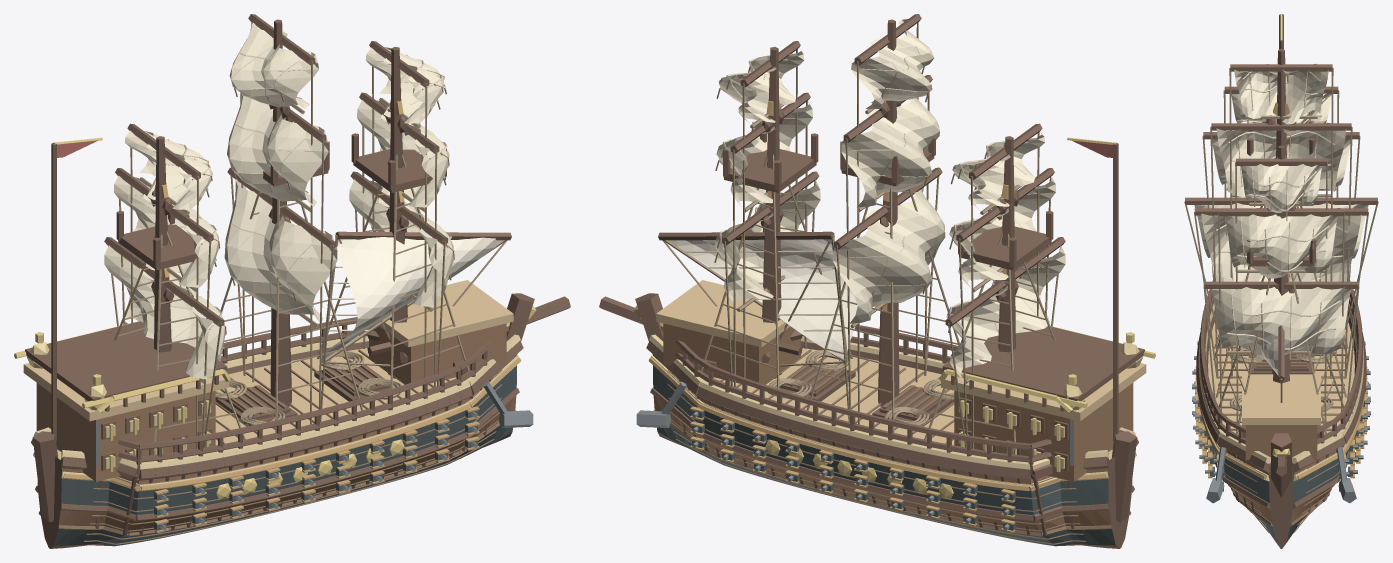
File: ship_of_line-v5-mobile.glb
3 renders of one model, left to right at view 1: azimuth 30°, elevation 25°; view 2: azimuth 150°, elevation 25°; view 3: azimuth 270°, elevation 25°, orthographic. The views are drawn at different scales.
Parts seen in each view (by area): view 1: ship_of_line_sails_sail, ship_of_line_hull_darkwood, ship_of_line_masts_darkwood, ship_of_line_deck_hull, ship_of_line_hull_black, ship_of_line_deck_darkwood, ship_of_line_rigging_rope, ship_of_line_railings_darkwood, ship_of_line_rigging_darkwood, ship_of_line_sails_sailbright, ship_of_line_deck_decklight, ship_of_line_hull_seam (+17 smaller); view 2: ship_of_line_sails_sail, ship_of_line_masts_darkwood, ship_of_line_hull_darkwood, ship_of_line_deck_hull, ship_of_line_hull_black, ship_of_line_rigging_rope, ship_of_line_deck_darkwood, ship_of_line_rigging_darkwood, ship_of_line_railings_darkwood, ship_of_line_deck_decklight, ship_of_line_sails_sailbright, ship_of_line_hull_seam (+17 smaller); view 3: ship_of_line_sails_sail, ship_of_line_rigging_darkwood, ship_of_line_rigging_rope, ship_of_line_hull_darkwood, ship_of_line_deck_decklight, ship_of_line_rigging_sailshade, ship_of_line_hull_decklight, ship_of_line_railings_darkwood, ship_of_line_masts_darkwood, ship_of_line_hull_black, ship_of_line_hull_seam, ship_of_line_deck_hull (+13 smaller).
Part boxes in pixels (x1,y1,x2,y2): ship_of_line_sails_sail: (104, 22, 453, 379); ship_of_line_hull_darkwood: (31, 293, 570, 548); ship_of_line_masts_darkwood: (116, 19, 446, 406); ship_of_line_deck_hull: (36, 323, 506, 481); ship_of_line_hull_black: (54, 365, 516, 546); ship_of_line_deck_darkwood: (25, 321, 227, 470); ship_of_line_rigging_rope: (107, 22, 507, 448); ship_of_line_railings_darkwood: (118, 317, 494, 474); ship_of_line_rigging_darkwood: (104, 14, 511, 326); ship_of_line_sails_sailbright: (326, 237, 502, 357); ship_of_line_deck_decklight: (23, 280, 513, 421); ship_of_line_hull_seam: (38, 349, 516, 544); ship_of_line_sails_sail: (714, 19, 1065, 378); ship_of_line_masts_darkwood: (723, 19, 1053, 406); ship_of_line_hull_darkwood: (599, 293, 1138, 548); ship_of_line_deck_hull: (663, 323, 1133, 481); ship_of_line_hull_black: (653, 365, 1115, 546); ship_of_line_rigging_rope: (662, 22, 1062, 448); ship_of_line_deck_darkwood: (942, 326, 1144, 470); ship_of_line_rigging_darkwood: (658, 14, 1065, 326); ship_of_line_railings_darkwood: (675, 325, 1051, 474); ship_of_line_deck_decklight: (656, 280, 1146, 421); ship_of_line_sails_sailbright: (669, 239, 857, 358); ship_of_line_hull_seam: (653, 349, 1131, 544); ship_of_line_sails_sail: (1194, 63, 1368, 359); ship_of_line_rigging_darkwood: (1185, 64, 1377, 380); ship_of_line_rigging_rope: (1184, 68, 1378, 423); ship_of_line_hull_darkwood: (1196, 309, 1366, 548); ship_of_line_deck_decklight: (1242, 374, 1320, 424); ship_of_line_rigging_sailshade: (1215, 71, 1347, 353); ship_of_line_hull_decklight: (1208, 322, 1354, 434); ship_of_line_railings_darkwood: (1200, 280, 1362, 444); ship_of_line_masts_darkwood: (1247, 49, 1315, 383); ship_of_line_hull_black: (1214, 450, 1348, 542); ship_of_line_hull_seam: (1213, 339, 1349, 533); ship_of_line_deck_hull: (1245, 425, 1317, 459).
Bounding box in the file's own units: 59.9 × 51.65 × 22.22.
